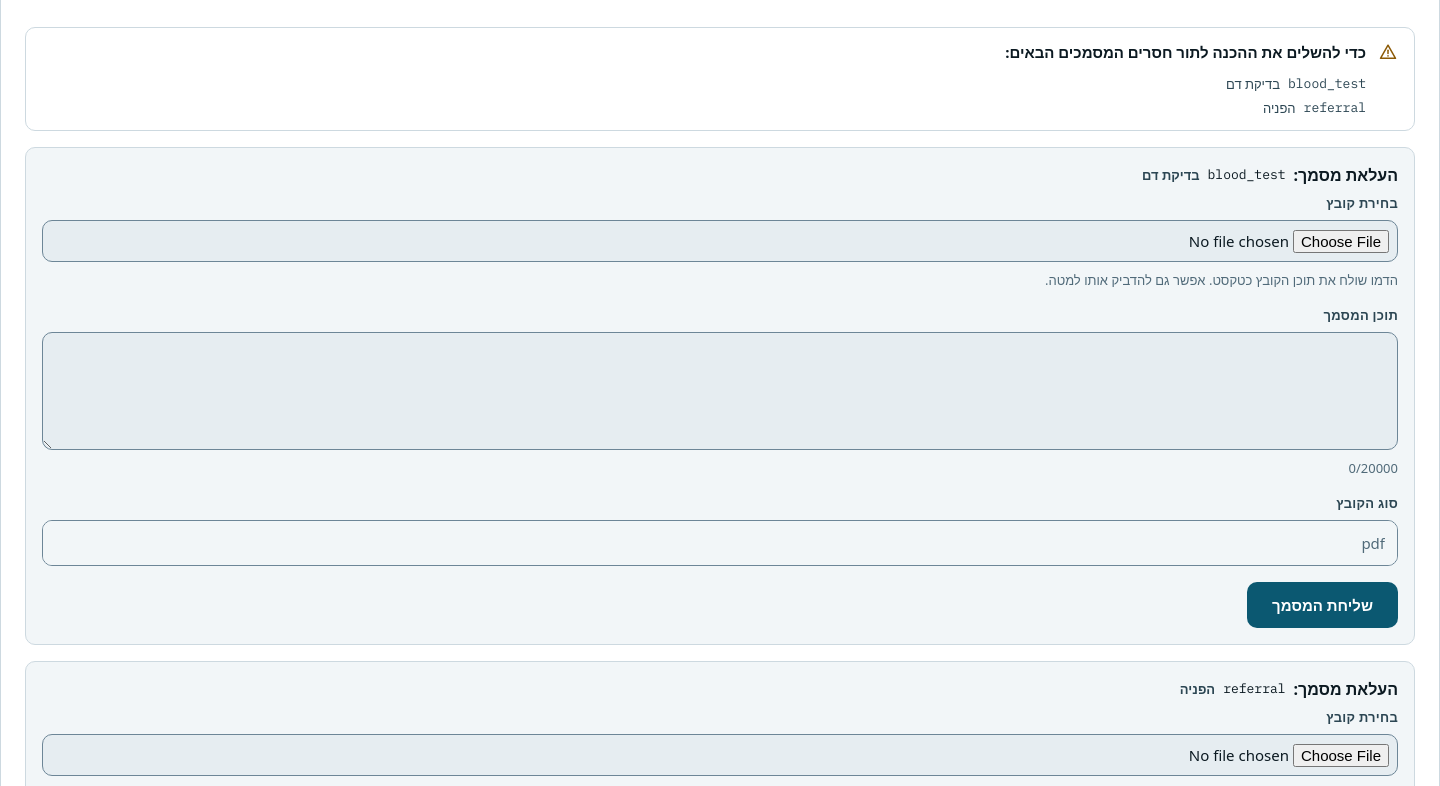
Test: RequestDetail: needs_document (D24) › uploads pasted content as {document_id, format, content} and shows the case as it now stands
(page scrolled)
Type "  תוצאות בדיקת דם  " into the text box labelled "תוכן המסמך". click: (720, 391)
box: [43,333,1397,449]
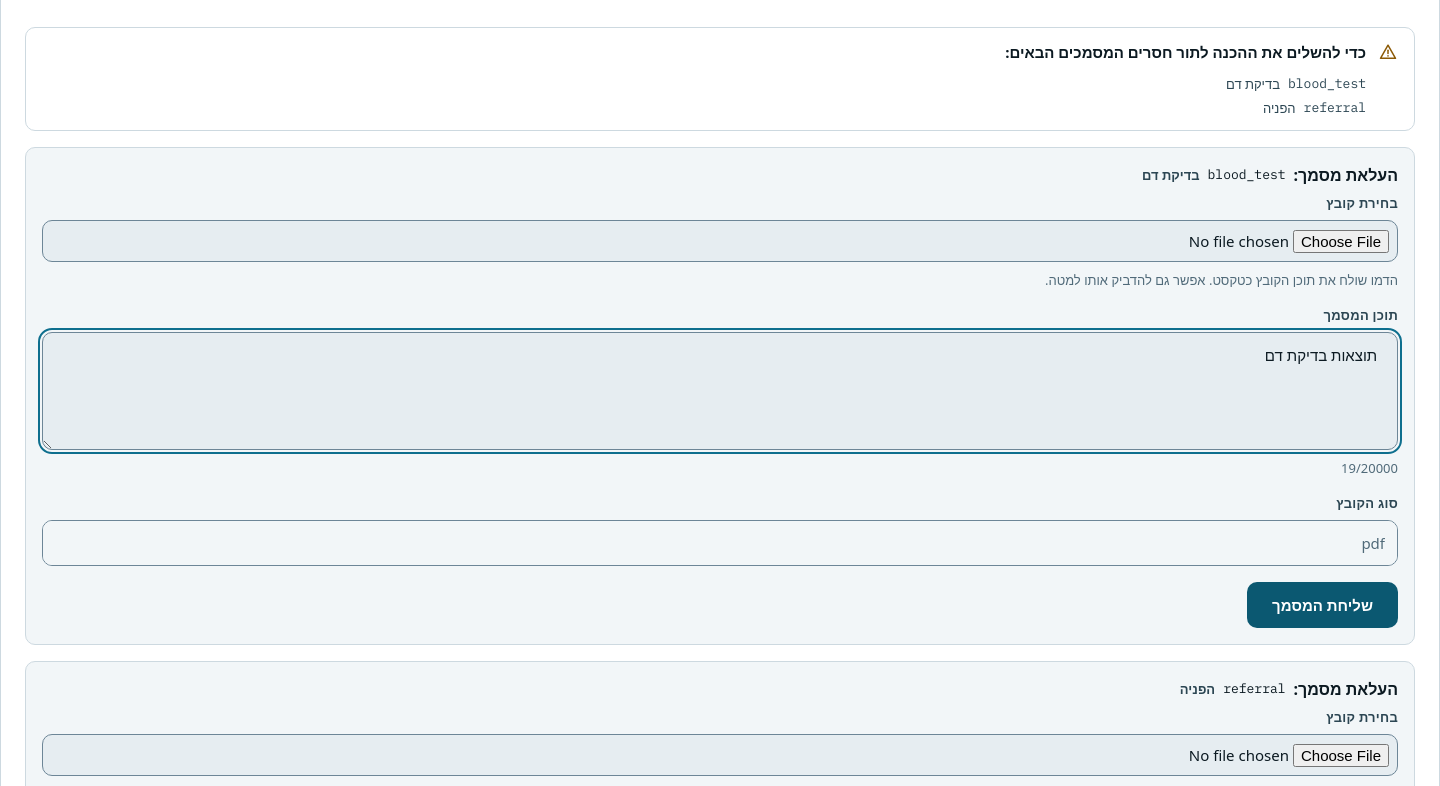
Select "jpg" in the dropdown labelled "סוג הקובץ". click: (720, 543)
box: [43,521,1397,565]
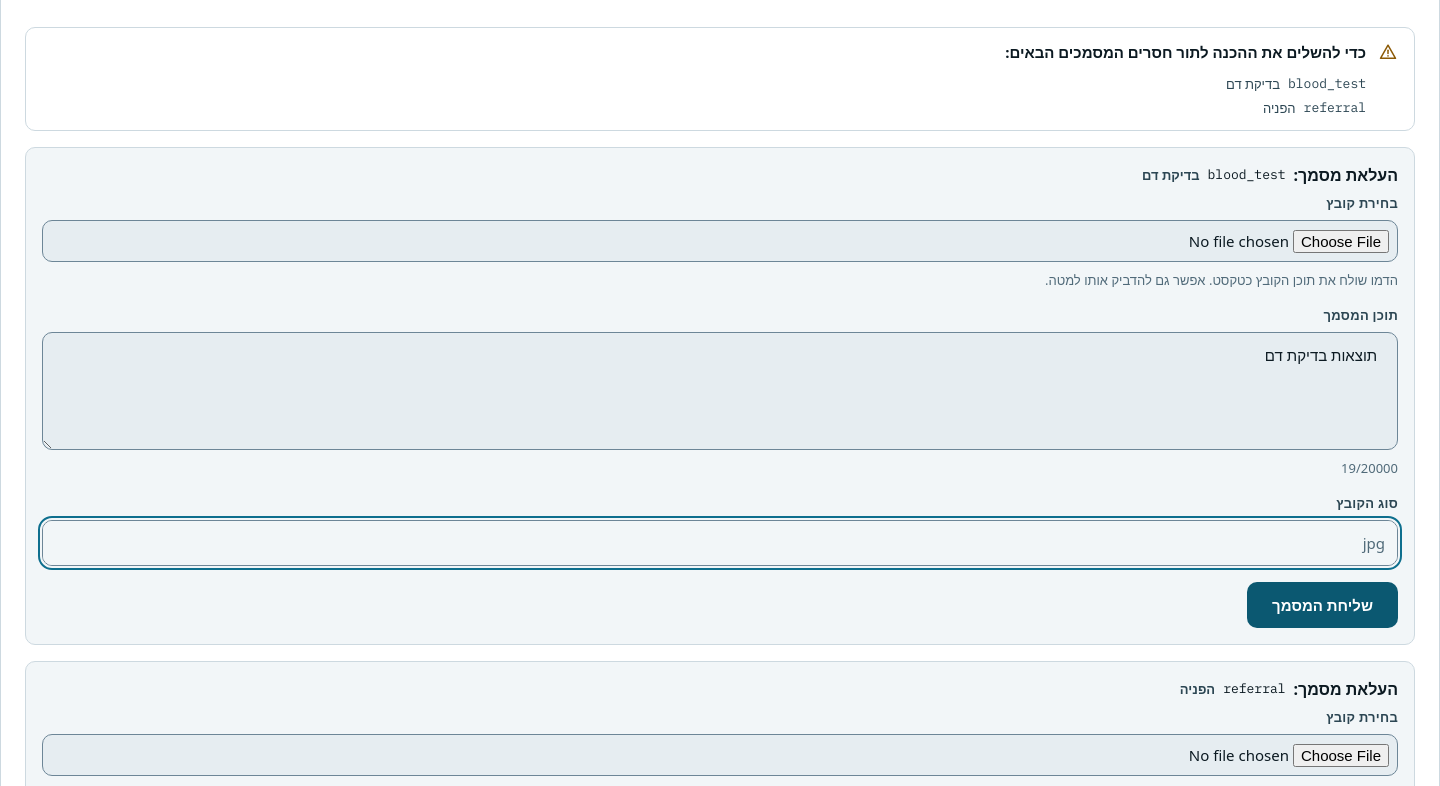
Click the button "שליחת המסמך". click: (1322, 605)
box: [1247,582,1398,628]
(page scrolled)
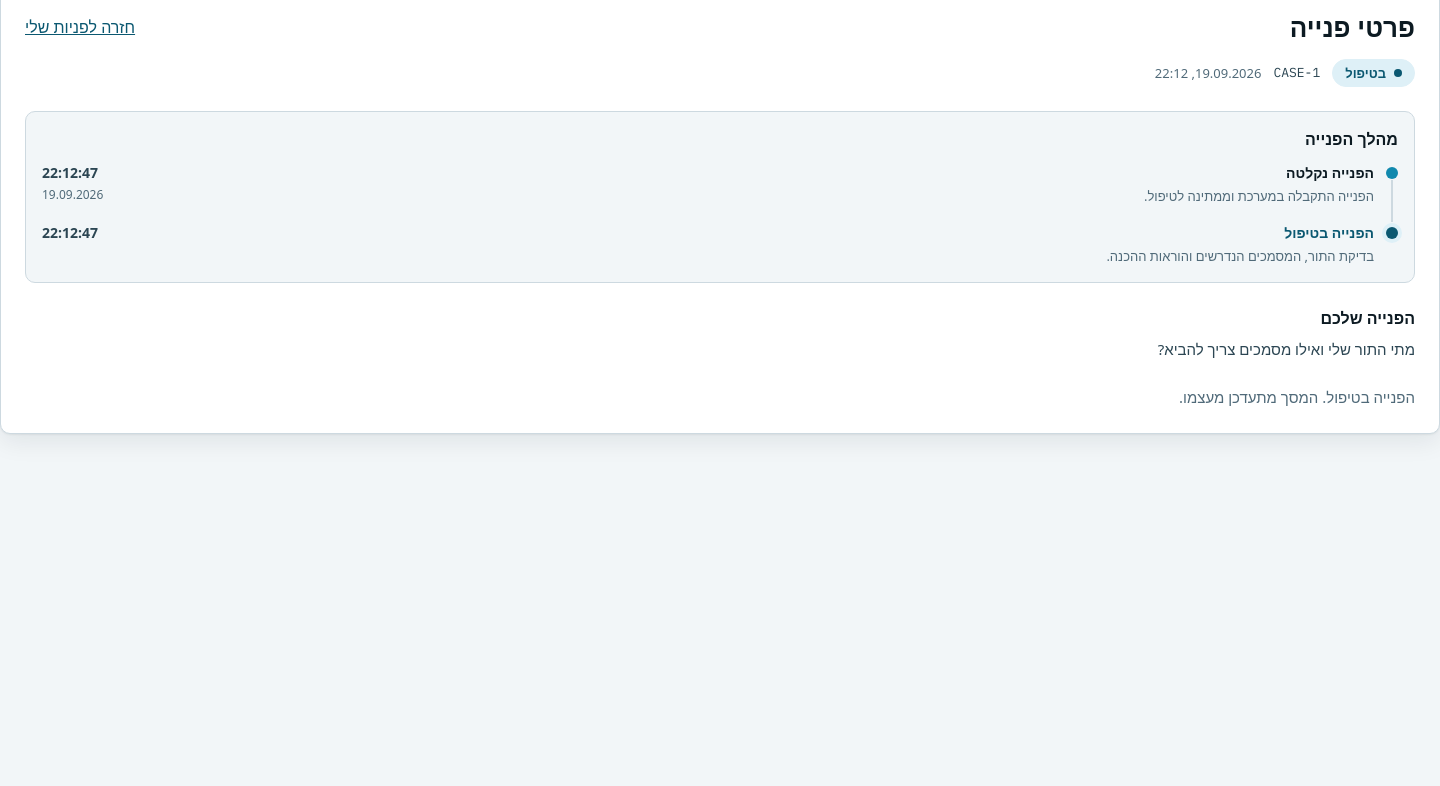
Now the text "כדי להשלים את ההכנה לתור חסרים המסמכים הבאים:" is gone
Now the element showing "בטיפול" is shown, box [1332,59,1415,87]
